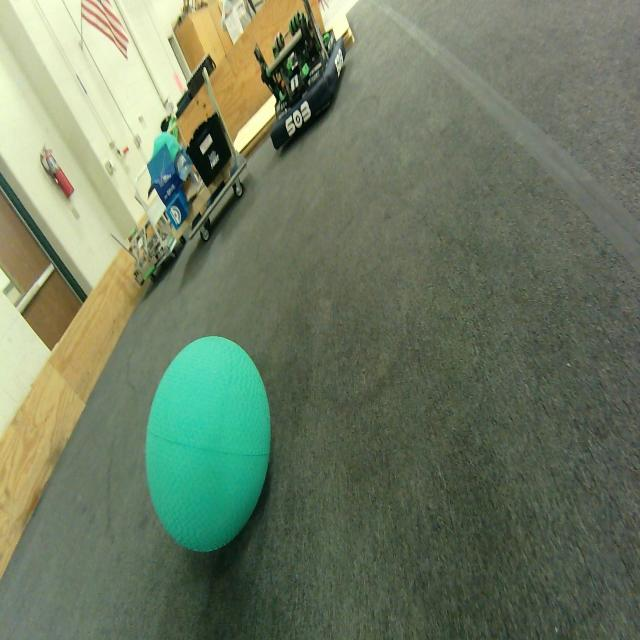algae: (145, 336, 271, 552)
